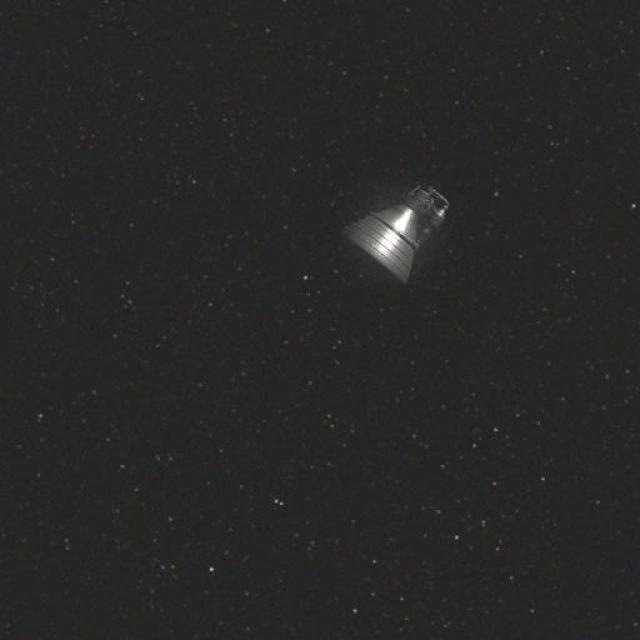debris: (326, 184, 460, 288)
